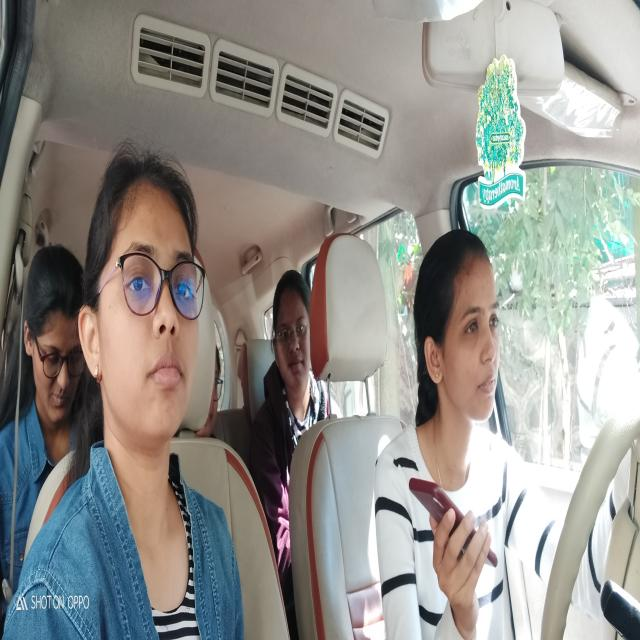mobile: (407, 469, 503, 575)
person: (84, 143, 204, 456), (413, 215, 510, 427), (20, 248, 87, 426), (268, 262, 318, 414), (203, 337, 227, 435)
